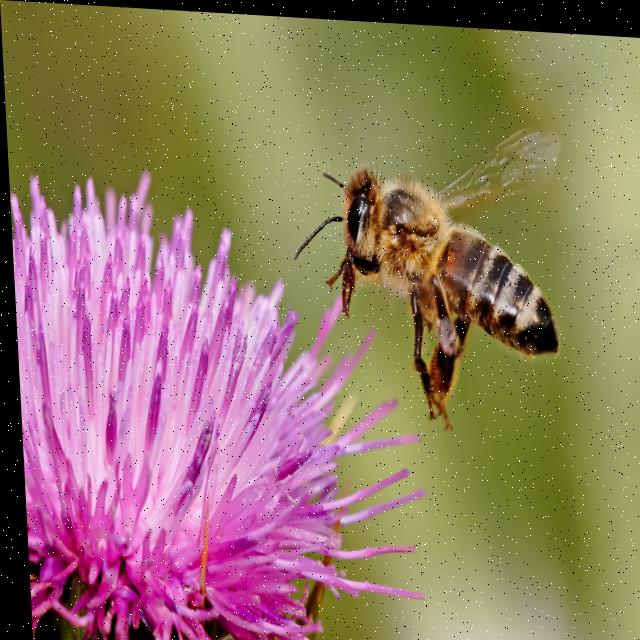Meliponula: (292, 97, 586, 453)
